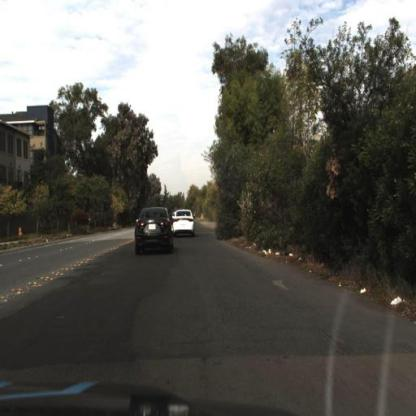car: (133, 200, 176, 259), (170, 202, 201, 245), (165, 218, 178, 242)
